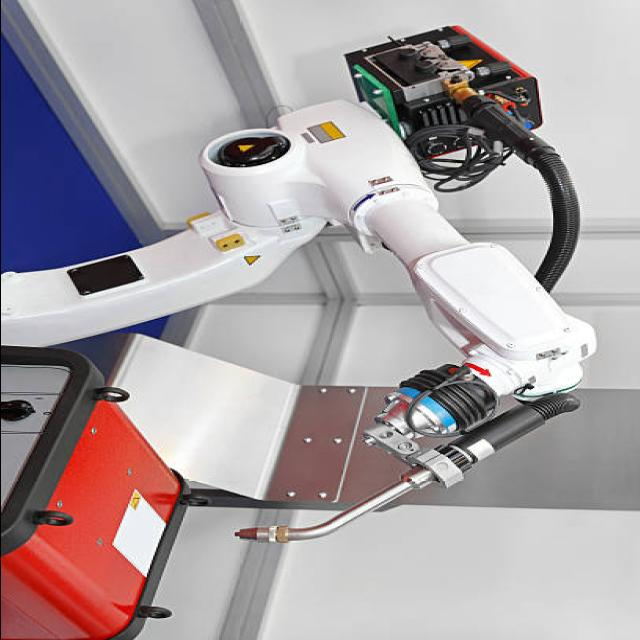Robotic-arm: (0, 97, 601, 408)
